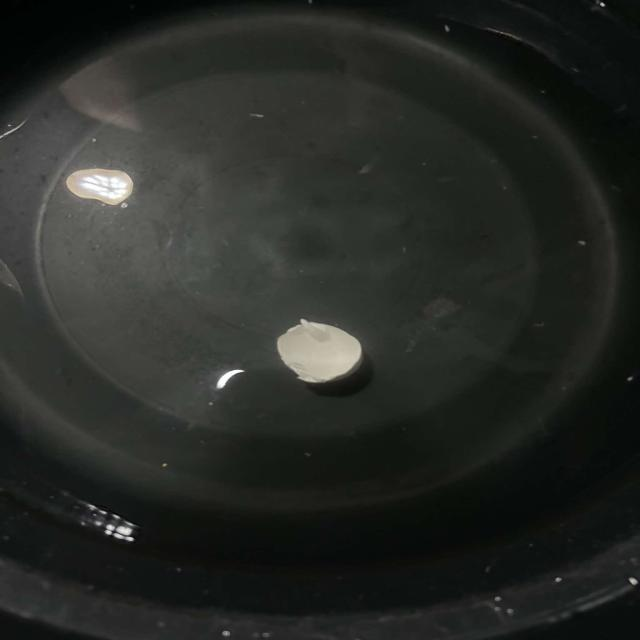Eggshell: (257, 308, 381, 397)
